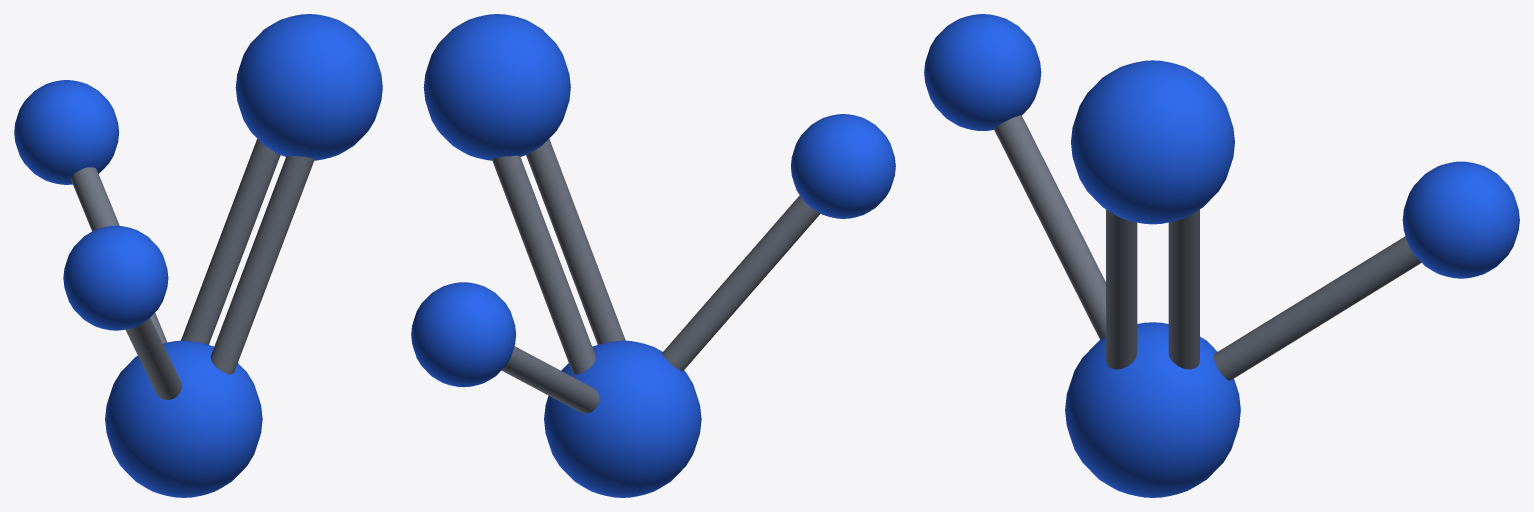
The picture shows the model from 3 angles, left to right: view 1: azimuth 30°, elevation 25°; view 2: azimuth 150°, elevation 25°; view 3: azimuth 270°, elevation 25°; orthographic projection. The views are drawn at different scales.
Visible parts, largest first — view 1: C1, O1, H1, H2, object 5, object 6, object 7, object 8; view 2: C1, O1, H2, H1, object 6, object 7, object 5, object 8; view 3: C1, O1, H2, H1, object 8, object 7, object 6, object 5.
Boxes of the visible parts, box(x1,y1,x2,y2) form: C1: box(105, 340, 262, 497); O1: box(235, 14, 382, 160); H1: box(63, 225, 168, 330); H2: box(14, 80, 119, 184); object 5: box(210, 155, 314, 374); object 6: box(181, 139, 280, 344); object 7: box(125, 318, 181, 399); object 8: box(71, 167, 167, 343); C1: box(544, 340, 701, 497); O1: box(423, 14, 570, 160); H2: box(411, 282, 516, 387); H1: box(791, 114, 895, 218); object 6: box(492, 155, 595, 374); object 7: box(662, 195, 820, 371); object 5: box(526, 139, 625, 344); object 8: box(501, 346, 599, 413); C1: box(1065, 322, 1240, 497); O1: box(1071, 60, 1234, 224); H2: box(1402, 161, 1519, 278); H1: box(924, 14, 1041, 130); object 8: box(1213, 236, 1421, 380); object 7: box(994, 115, 1105, 339); object 6: box(1168, 209, 1199, 369); object 5: box(1106, 209, 1137, 369).
Bounding box in the file's own units: 0.2498 × 0.2767 × 0.3049.
